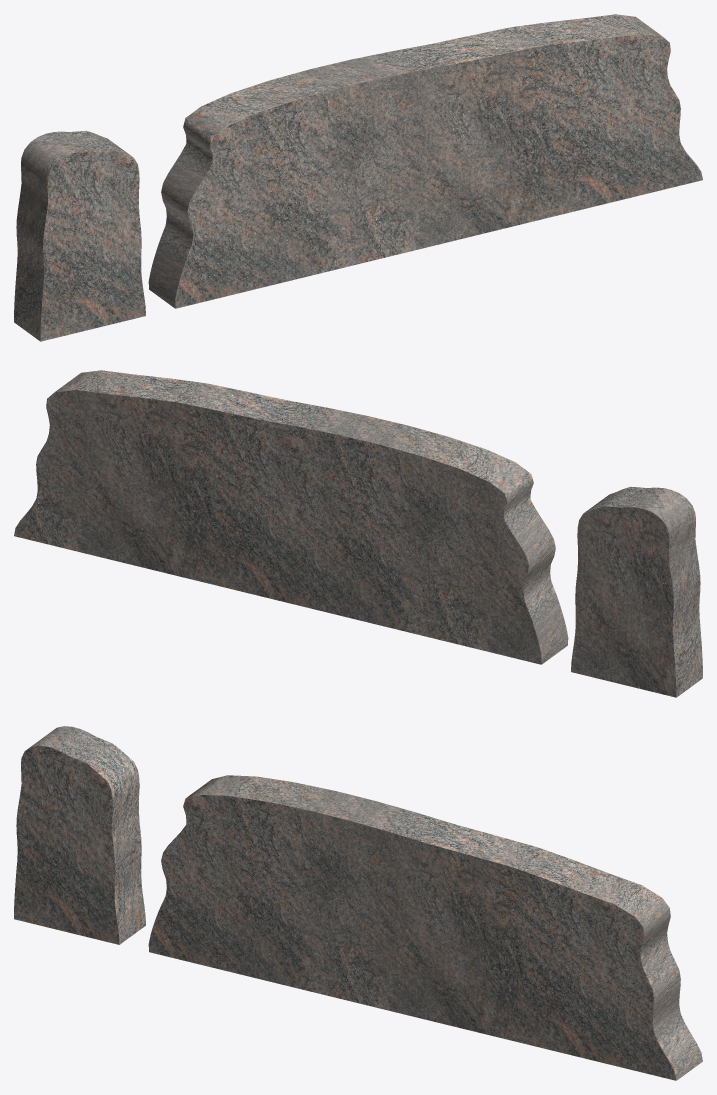
The model's file is stone8.glb.
3 renders of one model, top to bottom at view 1: azimuth 30°, elevation 25°; view 2: azimuth 150°, elevation 25°; view 3: azimuth 330°, elevation 25°, orthographic.
Visible parts, largest first — view 1: wide, big, small; view 2: wide, small, big; view 3: wide, big, small.
Boxes of the visible parts, x1,y1,x2,y2 form: wide: (148, 14, 702, 308); big: (19, 134, 136, 339); small: (14, 131, 145, 341); wide: (14, 370, 568, 664); small: (571, 487, 702, 697); big: (580, 490, 697, 695); wide: (148, 775, 702, 1080); big: (23, 730, 140, 942); small: (14, 726, 145, 944).
Size of the model in its own units: 3.45 by 0.8996 by 0.24.
Materials: 1 (1 with a texture image).
